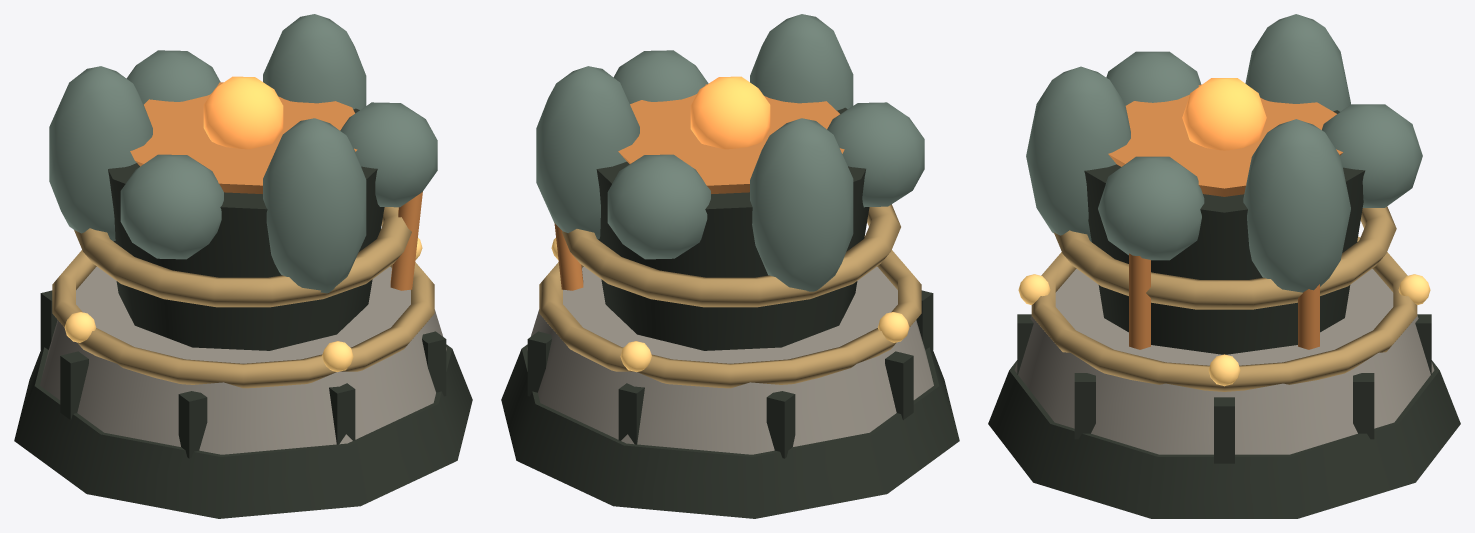
Rendered from tower_meteor_meteorMagma_ultimate.glb.
3 renders of one model, left to right at view 1: azimuth 30°, elevation 25°; view 2: azimuth 150°, elevation 25°; view 3: azimuth 270°, elevation 25°, orthographic.
Visible parts, largest first — view 1: foot_0, stone_1, crucible_15, basalt_20, basalt_22, rim_2, cauldron_band_24, basalt_21, lava_16, basalt_18, basalt_19, ember_23 (+9 smaller); view 2: foot_0, stone_1, crucible_15, basalt_22, basalt_18, rim_2, cauldron_band_24, basalt_17, lava_16, basalt_20, basalt_21, ember_23 (+9 smaller); view 3: stone_1, foot_0, crucible_15, basalt_18, rim_2, basalt_20, cauldron_band_24, basalt_19, lava_16, basalt_22, basalt_17, ember_23 (+11 smaller).
Boxes of the visible parts, x1=… form: foot_0: x1=14, y1=344, x2=472, y2=518; stone_1: x1=40, y1=266, x2=446, y2=454; crucible_15: x1=108, y1=108, x2=384, y2=350; basalt_20: x1=263, y1=118, x2=366, y2=293; basalt_22: x1=49, y1=66, x2=152, y2=241; rim_2: x1=52, y1=250, x2=434, y2=388; cauldron_band_24: x1=74, y1=207, x2=411, y2=307; basalt_21: x1=120, y1=154, x2=223, y2=259; lava_16: x1=130, y1=82, x2=357, y2=193; basalt_18: x1=263, y1=14, x2=366, y2=109; basalt_19: x1=340, y1=102, x2=437, y2=207; ember_23: x1=203, y1=76, x2=283, y2=149; foot_0: x1=501, y1=344, x2=959, y2=518; stone_1: x1=527, y1=266, x2=933, y2=454; crucible_15: x1=596, y1=107, x2=869, y2=350; basalt_22: x1=750, y1=118, x2=853, y2=291; basalt_18: x1=536, y1=66, x2=639, y2=239; rim_2: x1=539, y1=236, x2=921, y2=388; cauldron_band_24: x1=562, y1=204, x2=900, y2=307; basalt_17: x1=607, y1=154, x2=710, y2=259; lava_16: x1=618, y1=84, x2=844, y2=193; basalt_20: x1=750, y1=14, x2=853, y2=110; basalt_21: x1=827, y1=102, x2=924, y2=207; ember_23: x1=690, y1=76, x2=770, y2=149; stone_1: x1=1014, y1=269, x2=1434, y2=454; foot_0: x1=988, y1=360, x2=1460, y2=518; crucible_15: x1=1084, y1=110, x2=1365, y2=354; basalt_18: x1=1243, y1=119, x2=1350, y2=292; rim_2: x1=1031, y1=236, x2=1417, y2=391; basalt_20: x1=1026, y1=66, x2=1130, y2=241; cauldron_band_24: x1=1054, y1=206, x2=1396, y2=309; basalt_19: x1=1098, y1=156, x2=1204, y2=260; lava_16: x1=1108, y1=84, x2=1343, y2=196; basalt_22: x1=1245, y1=14, x2=1350, y2=111; basalt_17: x1=1322, y1=104, x2=1422, y2=207; ember_23: x1=1182, y1=78, x2=1266, y2=150.
Bounding box in the file's own units: 0.5326 × 0.467 × 0.56.
